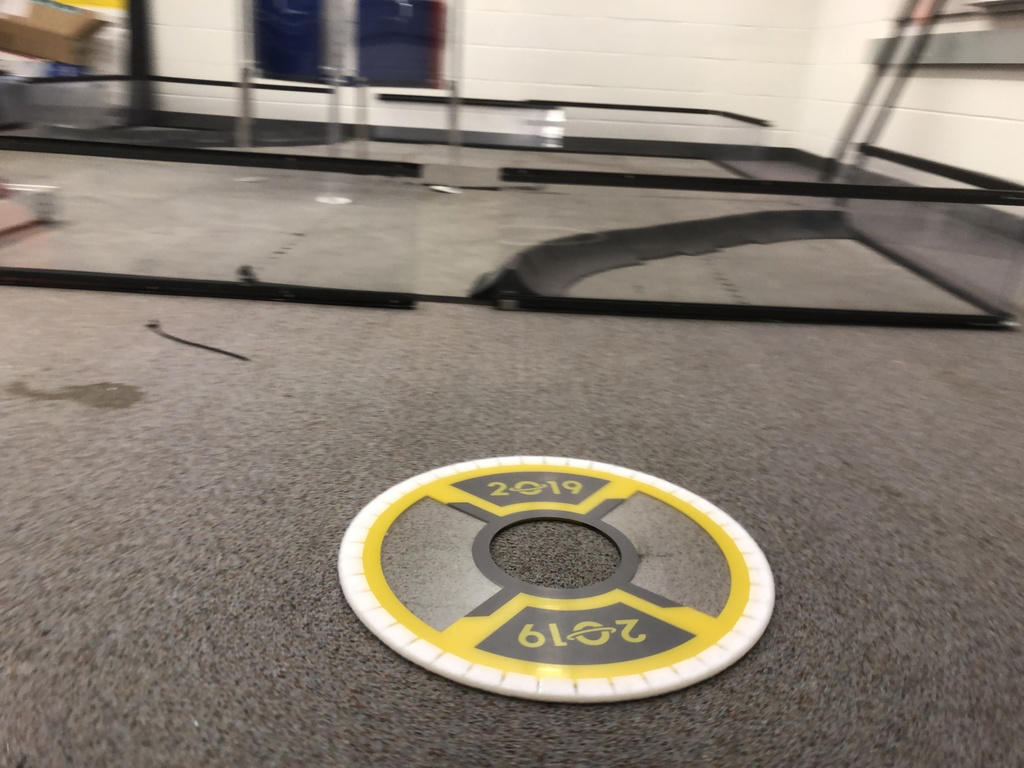hatch_panel: (330, 440, 795, 719)
